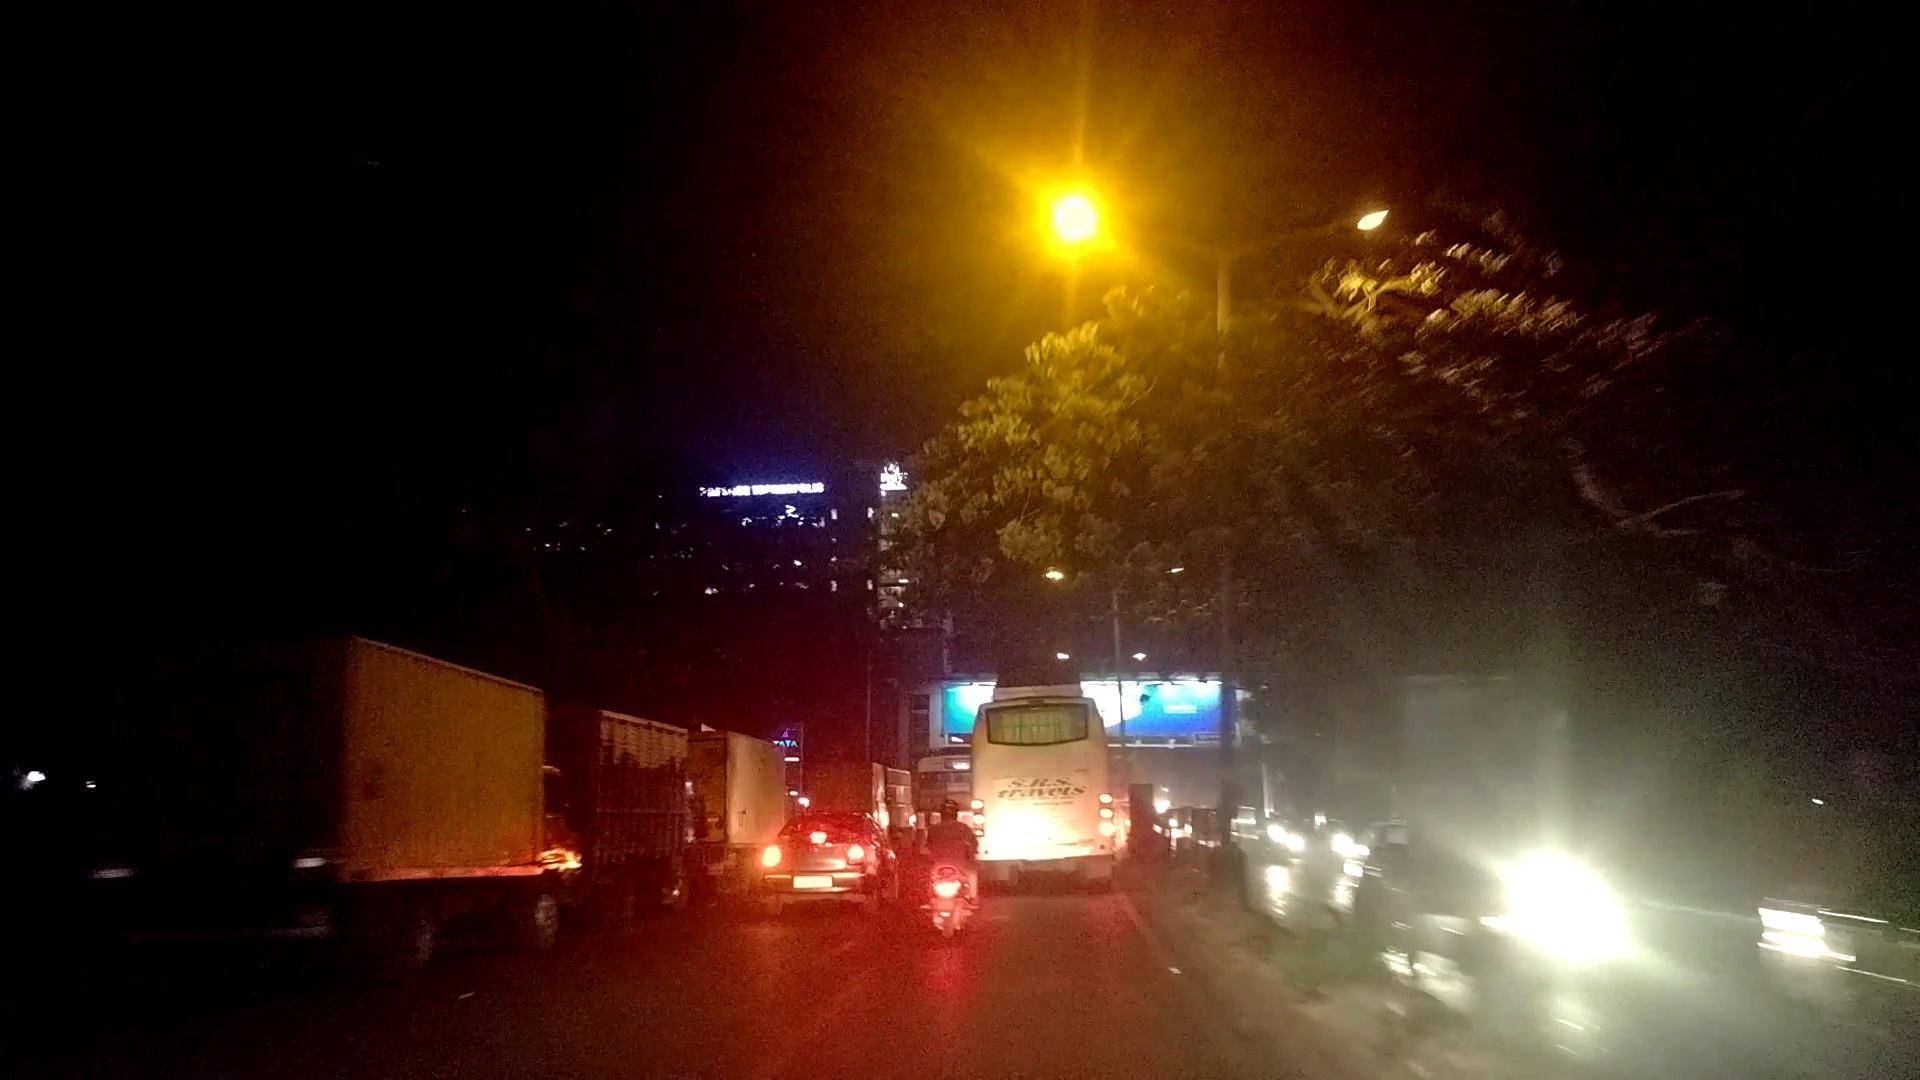on: (920, 51, 1222, 451)
